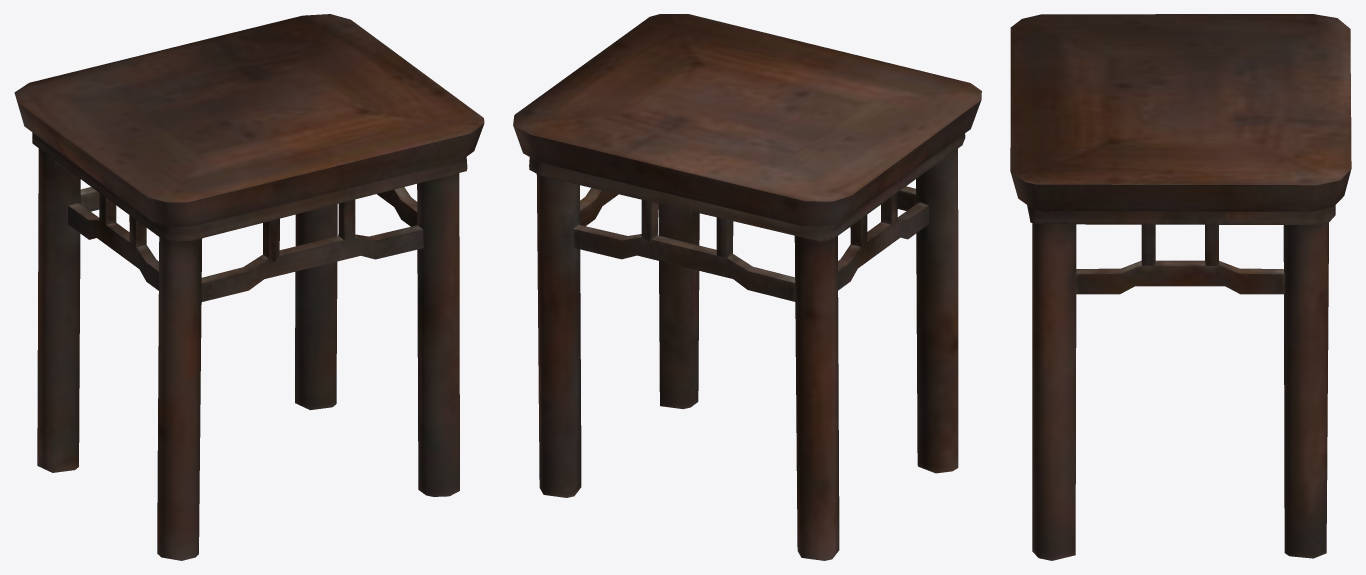
Rendered from th_chinahocker.glb.
3 views of the same model, side by side, from view 1: azimuth 30°, elevation 25°; view 2: azimuth 150°, elevation 25°; view 3: azimuth 270°, elevation 25° (orthographic). The views are drawn at different scales.
Visible parts, largest first — view 1: chinese_stool; view 2: chinese_stool; view 3: chinese_stool.
Boxes of the visible parts, bbox=[...] form: chinese_stool: bbox=[14, 14, 484, 560]; chinese_stool: bbox=[513, 14, 981, 560]; chinese_stool: bbox=[1010, 14, 1351, 560].
Bounding box in the file's own units: 0.5957 × 0.6251 × 0.5016.
Materials: 1 (1 with a texture image).
